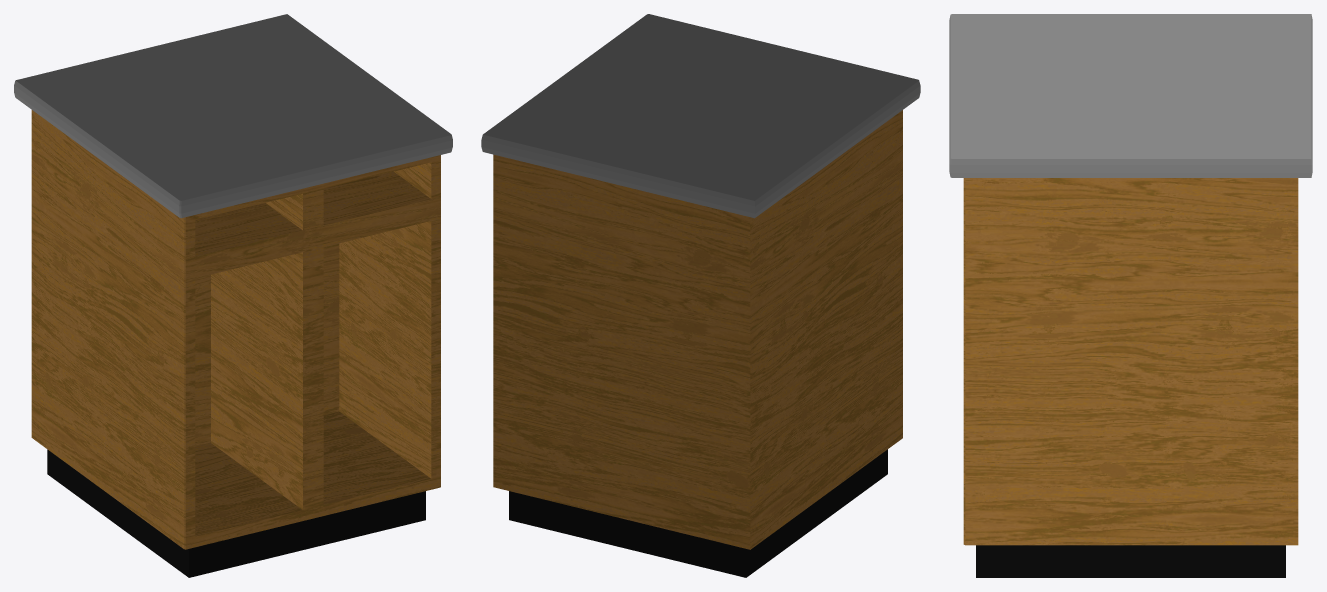
The model's file is StandardCounterHeightWidth_0bfaa6fd.obj.
The picture shows the model from 3 angles, left to right: view 1: azimuth 30°, elevation 25°; view 2: azimuth 150°, elevation 25°; view 3: azimuth 270°, elevation 25°; orthographic projection. The views are drawn at different scales.
Visible parts, largest first — view 1: StandardCounterHeightWidth_0bfaa6fd; view 2: StandardCounterHeightWidth_0bfaa6fd; view 3: StandardCounterHeightWidth_0bfaa6fd.
Boxes of the visible parts, bbox=[...] form: StandardCounterHeightWidth_0bfaa6fd: bbox=[14, 14, 452, 577]; StandardCounterHeightWidth_0bfaa6fd: bbox=[481, 14, 920, 577]; StandardCounterHeightWidth_0bfaa6fd: bbox=[949, 14, 1312, 577].
Size of the model in its own units: 0.66 by 0.9 by 0.694.
